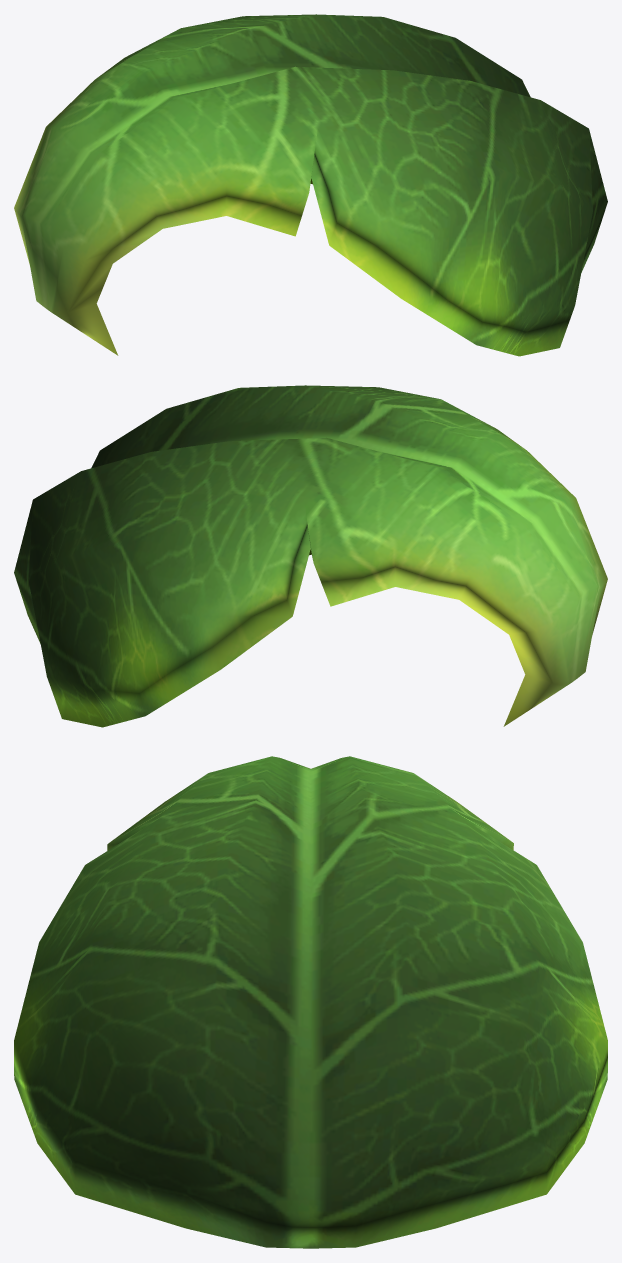
Rendered from icepea_hoja_der.obj.
3 renders of one model, top to bottom at view 1: azimuth 30°, elevation 25°; view 2: azimuth 150°, elevation 25°; view 3: azimuth 270°, elevation 25°, orthographic. The views are drawn at different scales.
Parts seen in each view (by area): view 1: icepea_hoja_der; view 2: icepea_hoja_der; view 3: icepea_hoja_der.
Boxes of the visible parts, x1,y1,x2,y2 form: icepea_hoja_der: (14,14,607,356); icepea_hoja_der: (14,385,607,727); icepea_hoja_der: (14,756,607,1248).
Size of the model in its own units: 0.467 by 0.2185 by 0.3937.
